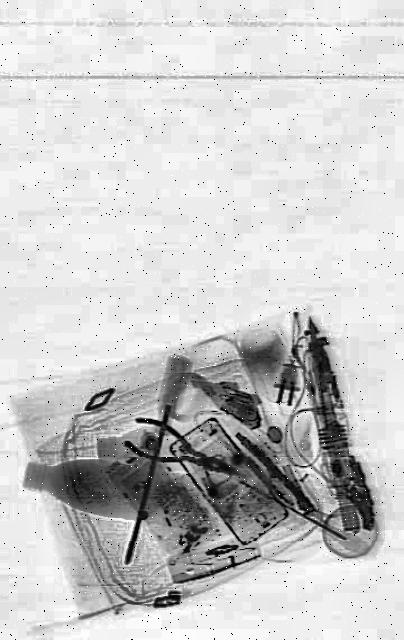Pliers: (121, 406, 245, 489)
